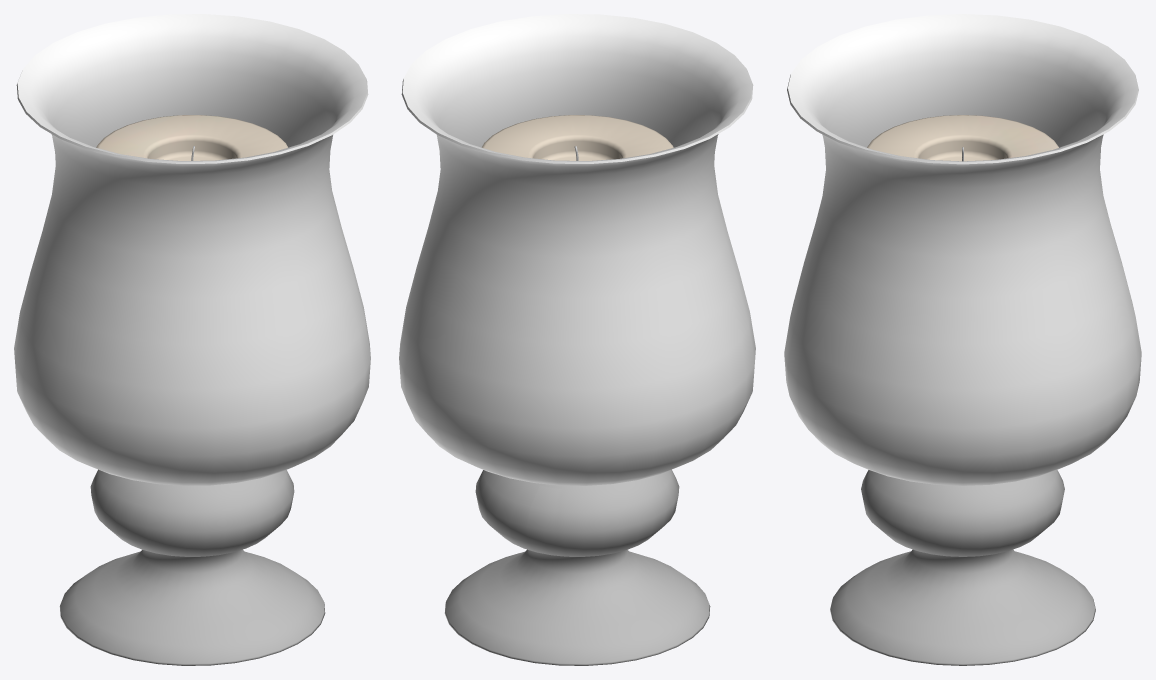
File: candle.glb
The picture shows the model from 3 angles, left to right: view 1: azimuth 30°, elevation 25°; view 2: azimuth 150°, elevation 25°; view 3: azimuth 270°, elevation 25°; orthographic projection.
Parts seen in each view (by area): view 1: GlassHurricaneCandleHolder-glass, GlassHurricaneCandleHolder-opaque; view 2: GlassHurricaneCandleHolder-glass, GlassHurricaneCandleHolder-opaque; view 3: GlassHurricaneCandleHolder-glass, GlassHurricaneCandleHolder-opaque.
Boxes of the visible parts, x1=… form: GlassHurricaneCandleHolder-glass: x1=14, y1=14, x2=370, y2=485; GlassHurricaneCandleHolder-opaque: x1=59, y1=115, x2=325, y2=665; GlassHurricaneCandleHolder-glass: x1=399, y1=14, x2=755, y2=485; GlassHurricaneCandleHolder-opaque: x1=444, y1=115, x2=710, y2=665; GlassHurricaneCandleHolder-glass: x1=784, y1=14, x2=1141, y2=485; GlassHurricaneCandleHolder-opaque: x1=830, y1=115, x2=1095, y2=665.
Size of the model in its own units: 0.1903 by 0.3066 by 0.1903.
2 materials, 2 textured.
